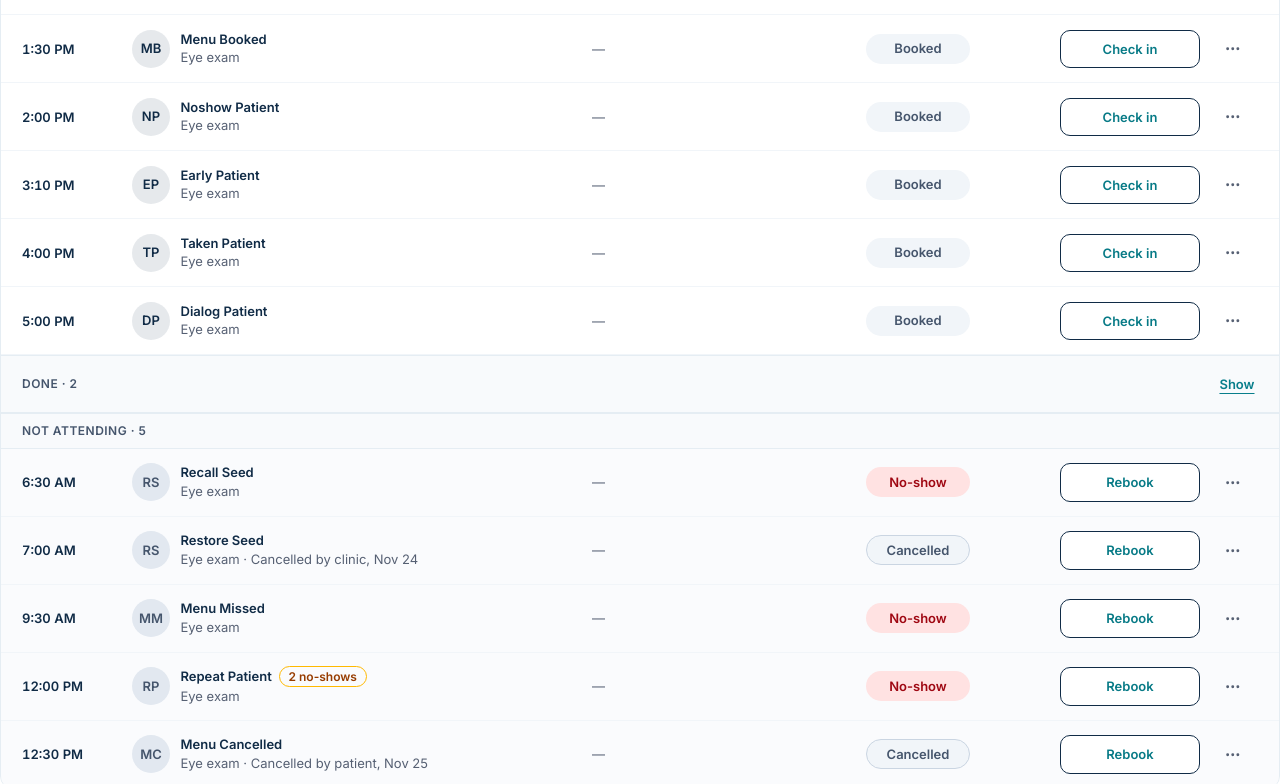
Scenario: Appointments table › keeps Done folded away until Show is pressed
(page scrolled)
Check: the text "Finished Patient" is not shown
Click the button "Show". click: (1237, 384)
box: x1=1216 y1=365 x2=1258 y2=404
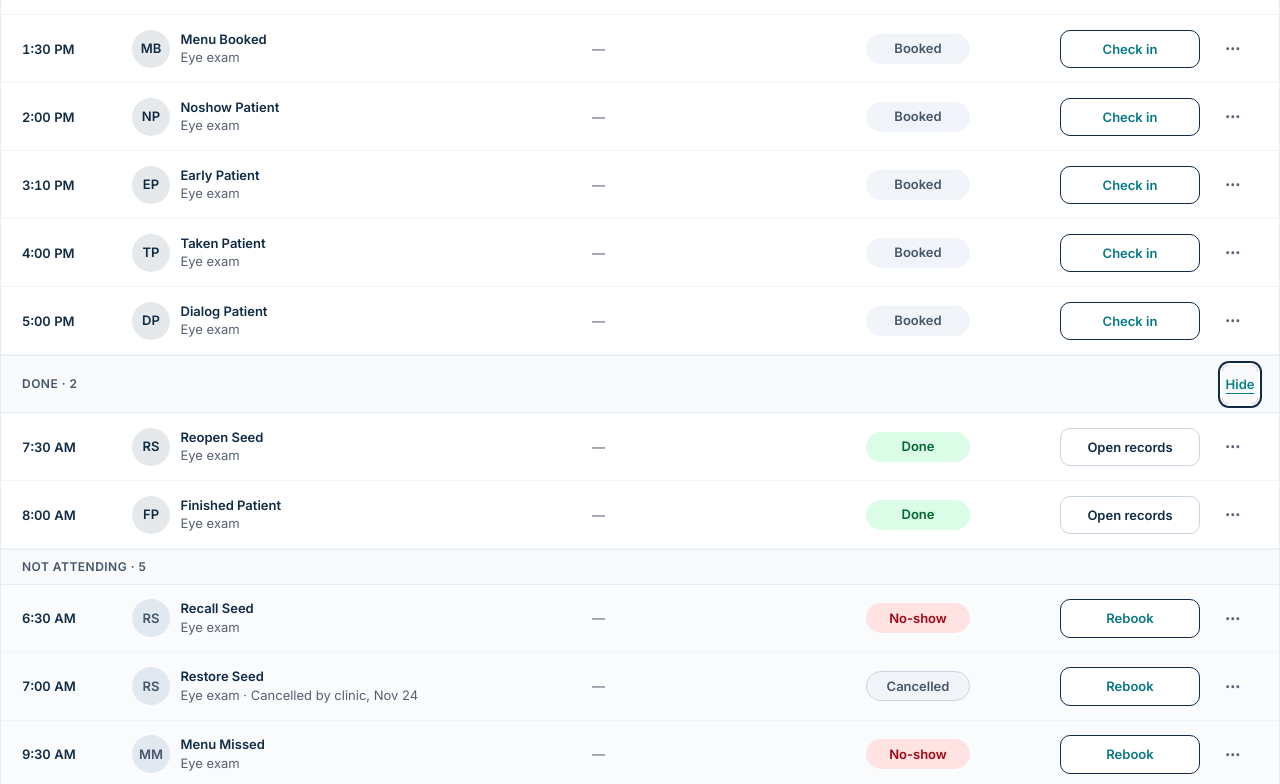
Check: the text "Finished Patient" is shown, box x1=180 y1=496 x2=281 y2=514
Check: the text "Done" in the row of "8:00 AM" is shown, box x1=902 y1=506 x2=934 y2=522
Click the button "Hide". click: (1240, 384)
box: x1=1222 y1=365 x2=1258 y2=404
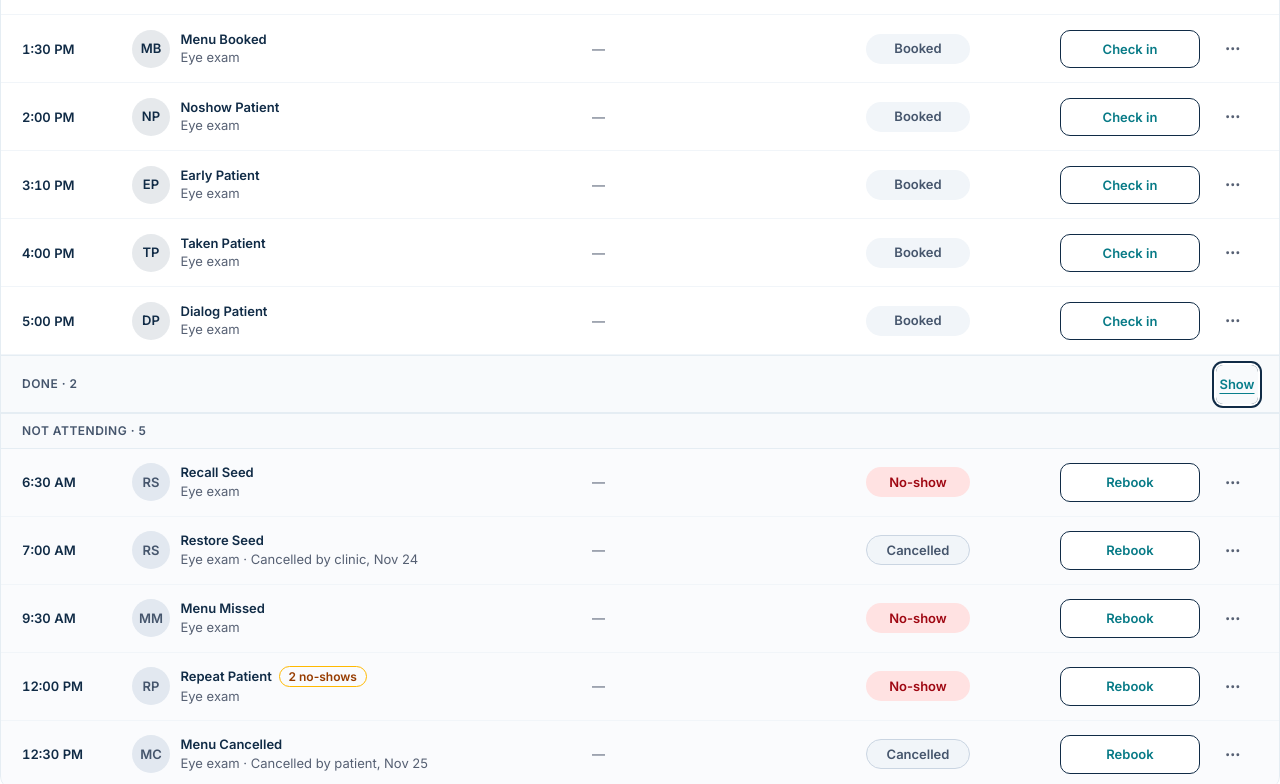
Check: the text "Finished Patient" is gone
